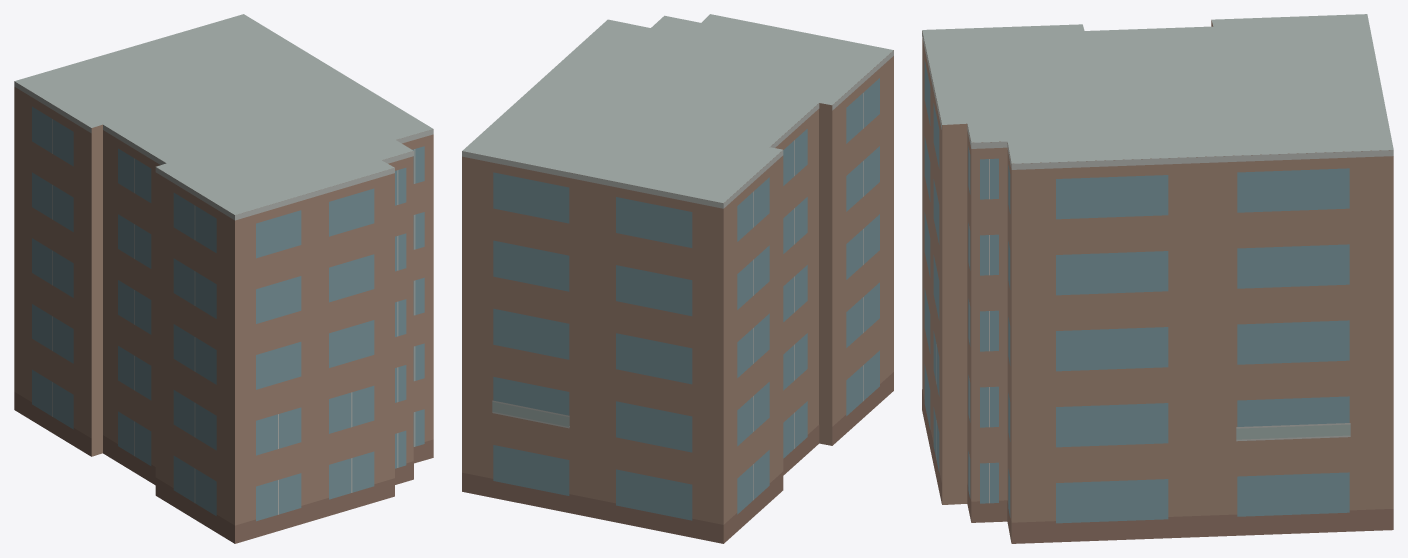
The model's file is survey-upis-33016050.glb.
The picture shows the model from 3 angles, left to right: view 1: azimuth 30°, elevation 25°; view 2: azimuth 150°, elevation 25°; view 3: azimuth 270°, elevation 25°; orthographic projection. The views are drawn at different scales.
Parts seen in each view (by area): view 1: survey-upis-33016050.tmp; view 2: survey-upis-33016050.tmp; view 3: survey-upis-33016050.tmp.
Part boxes in pixels (bbox=[...]): survey-upis-33016050.tmp: bbox=[14, 14, 433, 543]; survey-upis-33016050.tmp: bbox=[462, 14, 893, 543]; survey-upis-33016050.tmp: bbox=[922, 14, 1393, 543].
Bounding box in the file's own units: 12.69 × 15 × 16.88.
